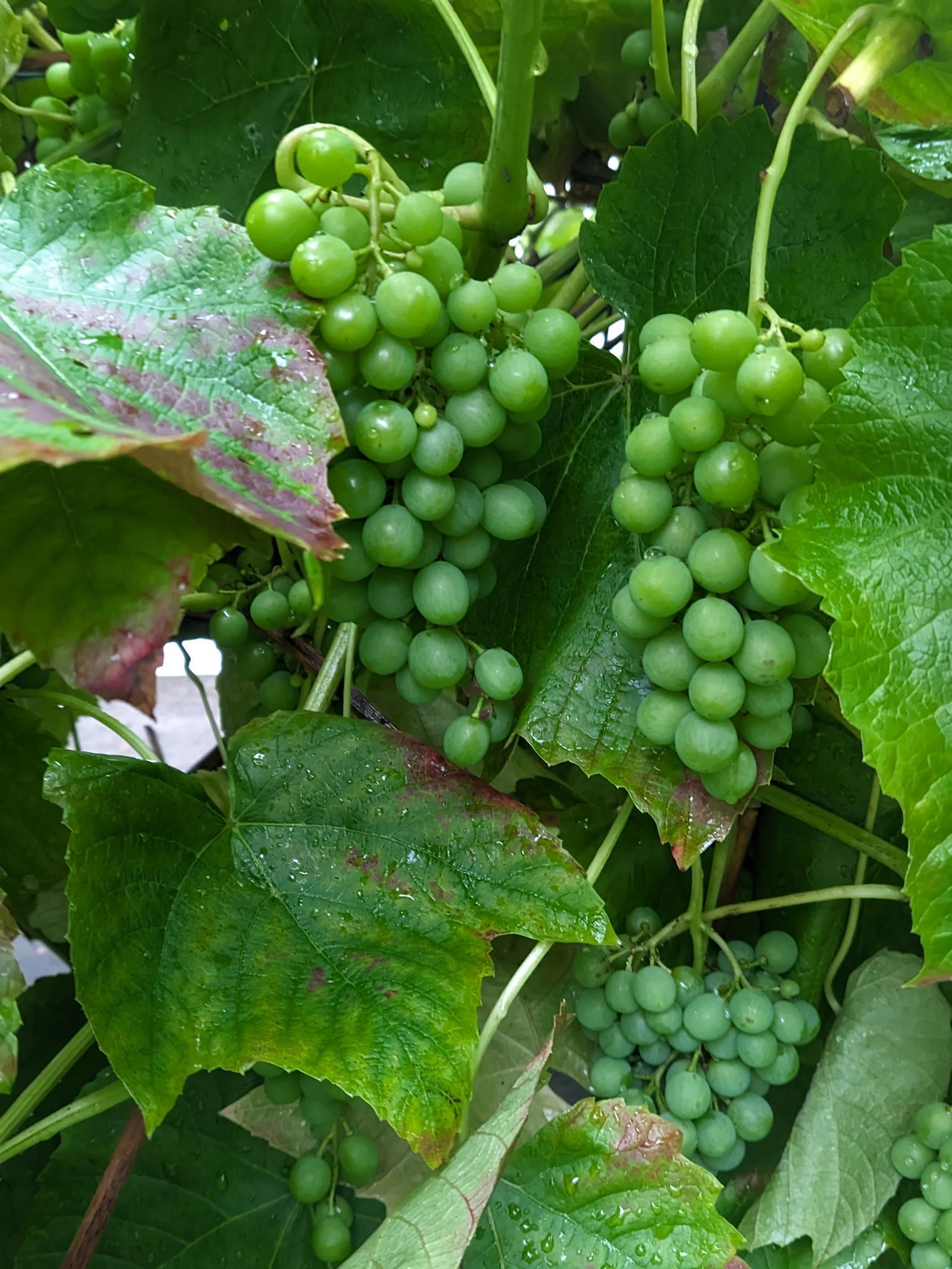Grape Unripe: (246, 125, 578, 704), (612, 312, 847, 802), (573, 931, 819, 1172), (248, 1049, 376, 1264), (609, 2, 747, 149), (198, 545, 318, 706), (36, 12, 138, 170), (897, 1096, 952, 1269)
